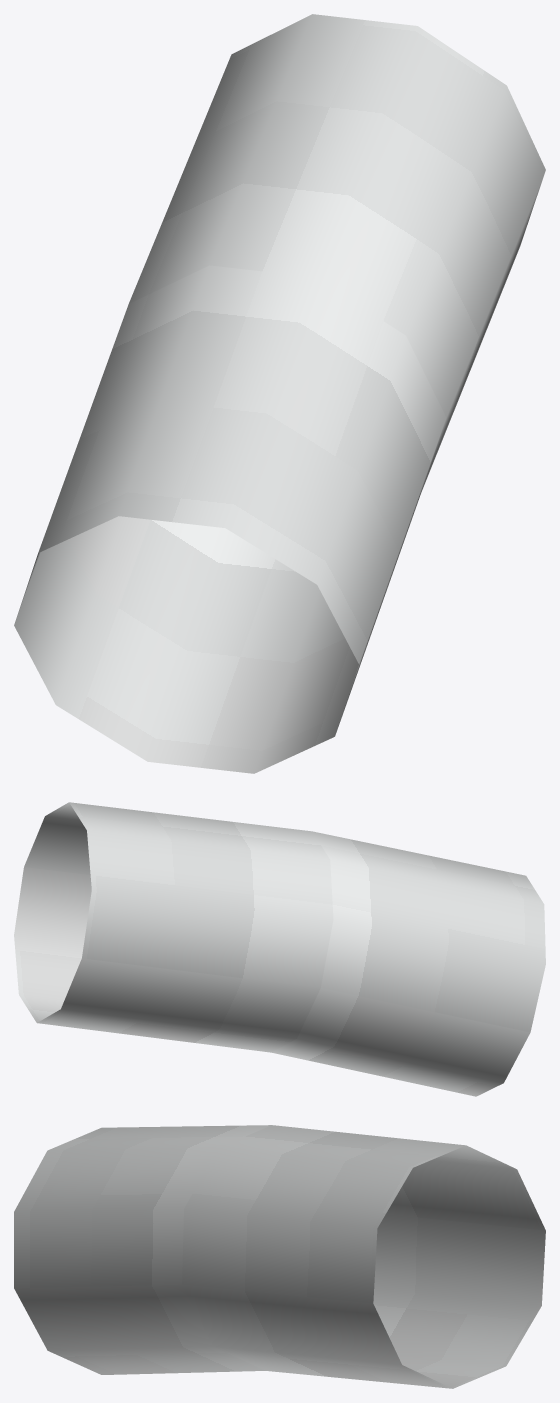
Rendered from nycsignalarm_diagonal12_c2.obj.
3 views of the same model, one above another, from view 1: azimuth 30°, elevation 25°; view 2: azimuth 150°, elevation 25°; view 3: azimuth 270°, elevation 25° (orthographic). The views are drawn at different scales.
Visible parts, largest first — view 1: nycsignalarm_diagonal12_c2; view 2: nycsignalarm_diagonal12_c2; view 3: nycsignalarm_diagonal12_c2.
Part boxes in pixels (bbox=[...]): nycsignalarm_diagonal12_c2: bbox=[14, 14, 545, 773]; nycsignalarm_diagonal12_c2: bbox=[14, 802, 545, 1096]; nycsignalarm_diagonal12_c2: bbox=[14, 1125, 545, 1388].
Size of the model in its own units: 0.7325 by 0.5142 by 0.7325.
